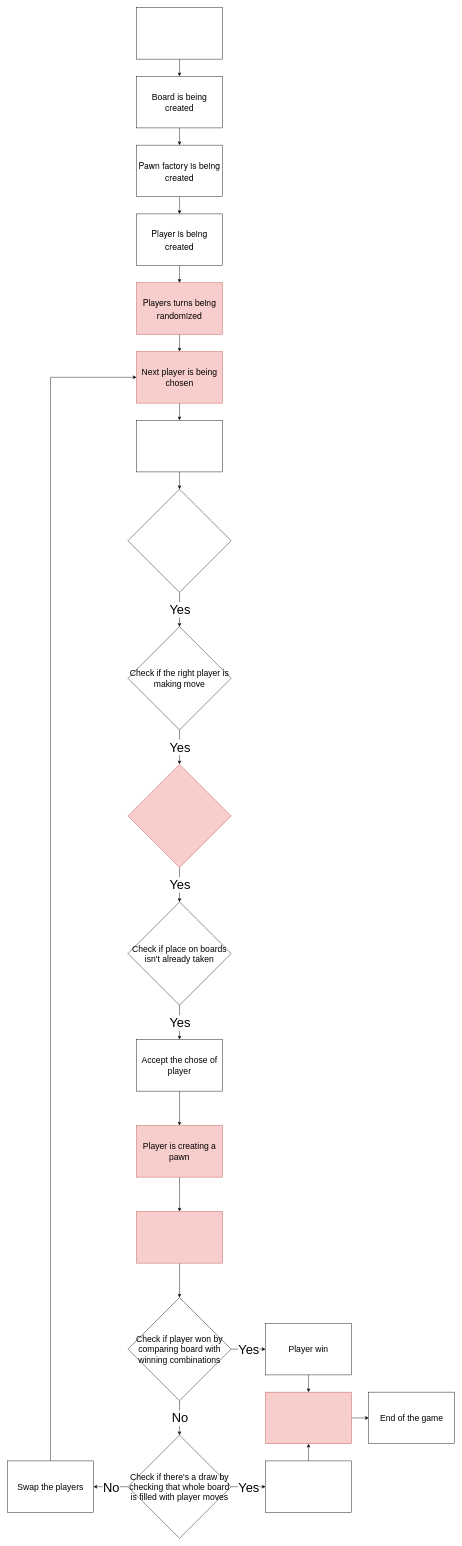
This 462x1546 diagram has some shape labels left out. The centre of each missing label's shape, as x and y in pixels:
Check if game isn't finished: point 179,540
Check if player placed the move in the right place within the board: point 179,816
Draw: point 308,1486
Player 1 & 2 entering the game: point 179,33
Player is making move: point 179,446
Player is placing a pawn in the selected place on the board: point 179,1237
Show results: point 308,1418
